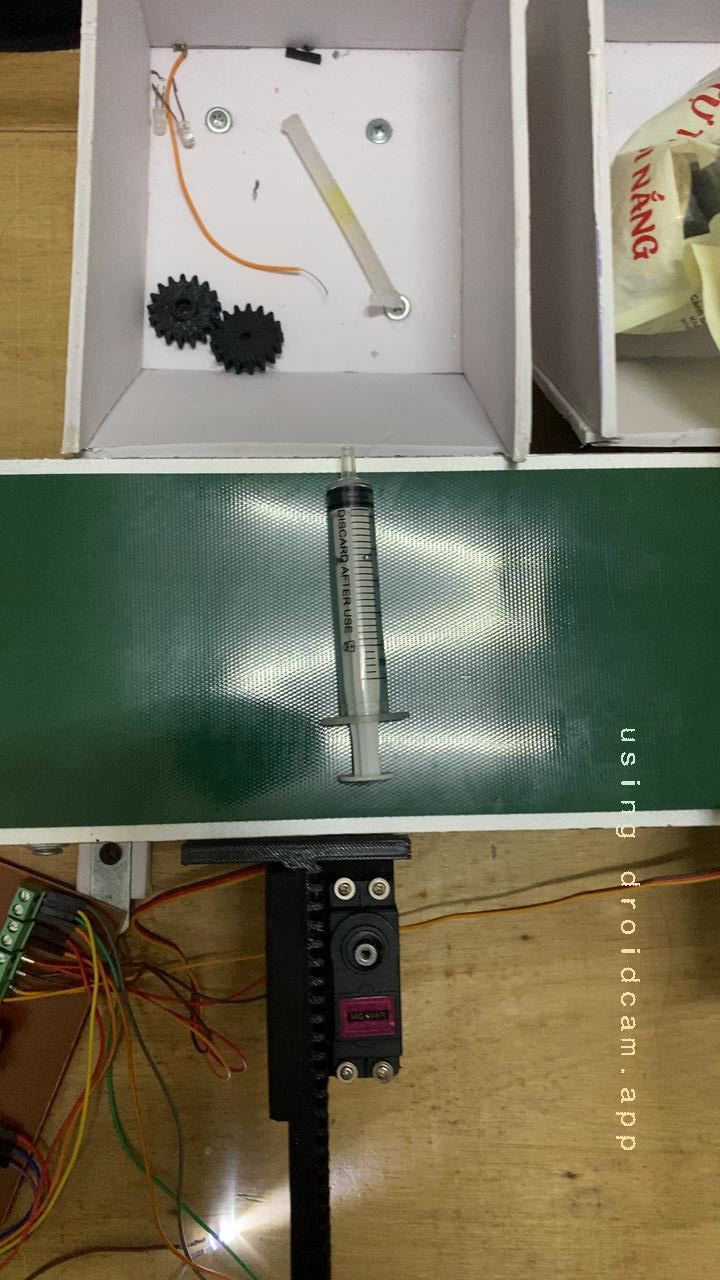syringe: (293, 478, 411, 744)
